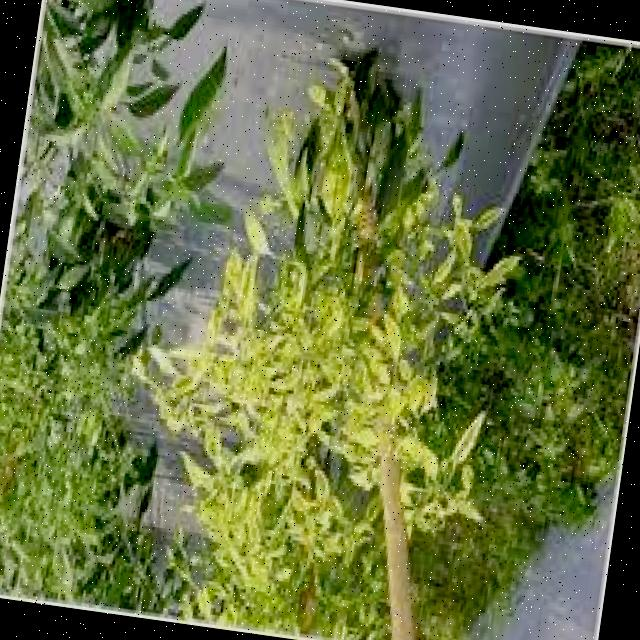leaf curl: (216, 39, 406, 328)
